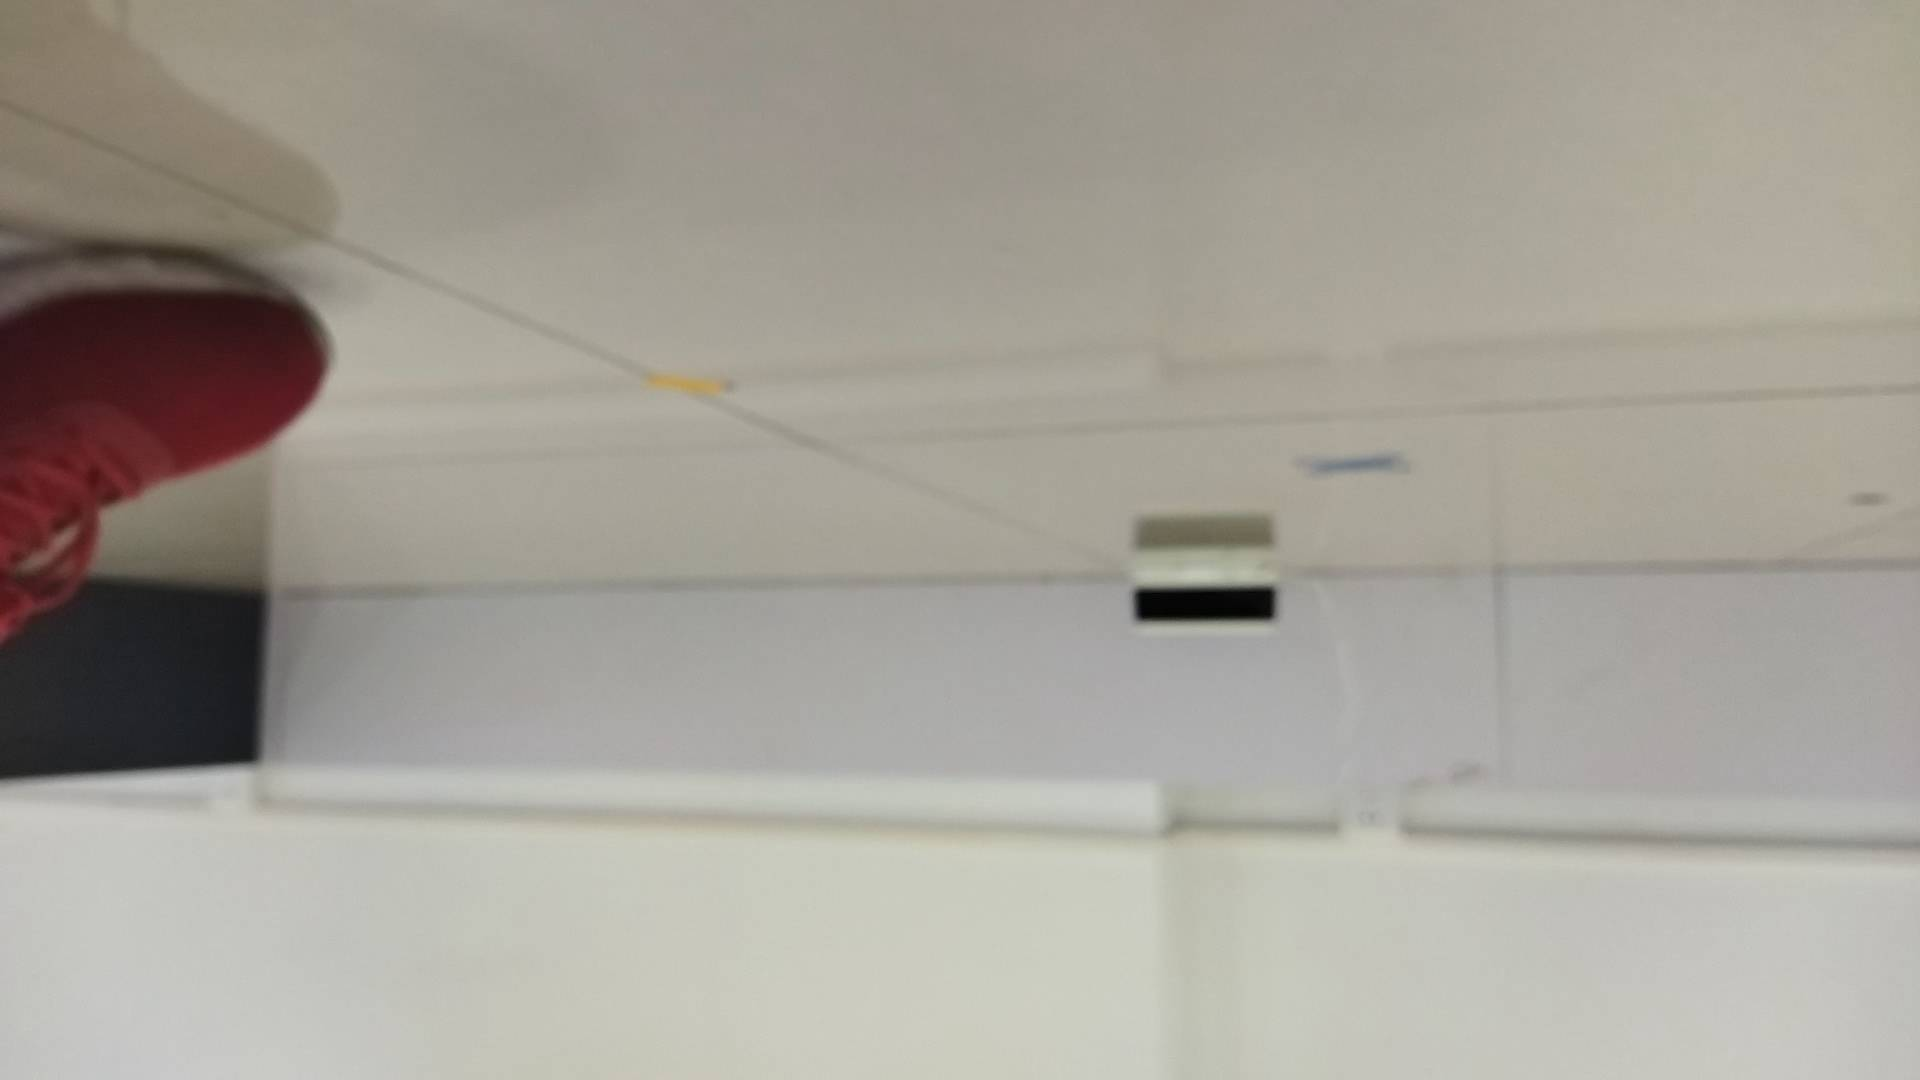recharge seat: (1122, 542, 1284, 632)
